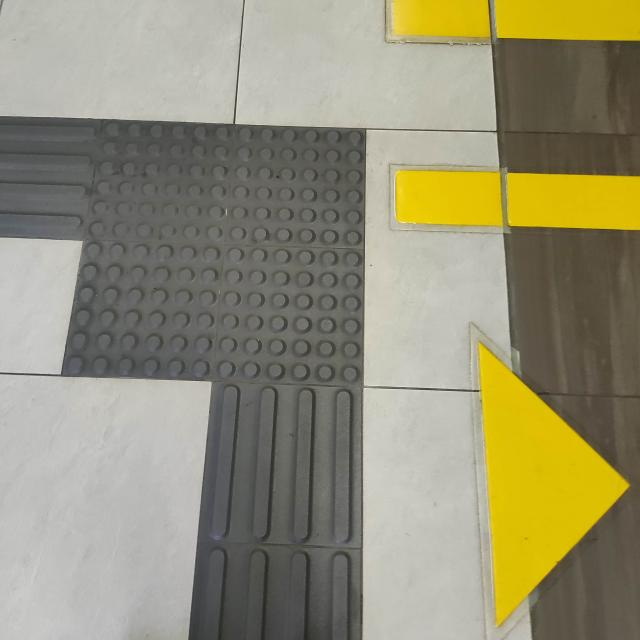kiri: (0, 69, 456, 505)
